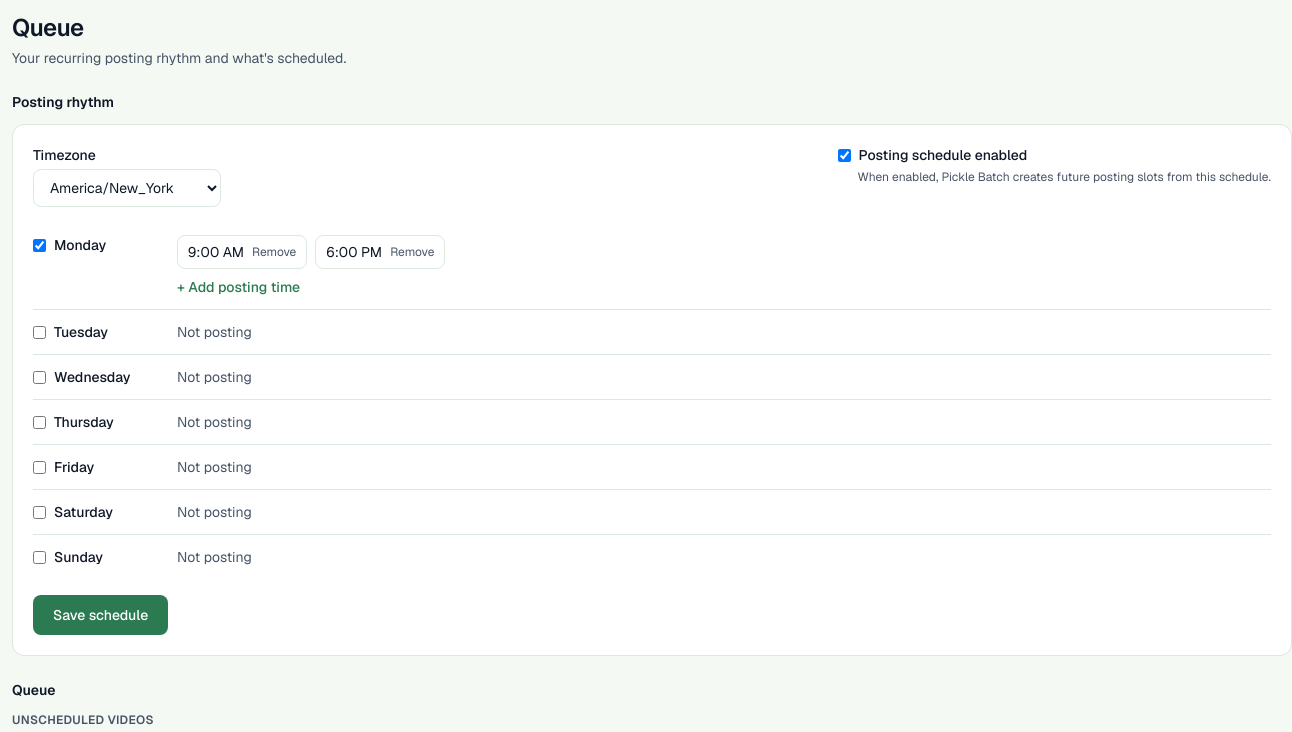
Test: QueuePage — posting rhythm › removes an individual time from a day with multiple times
This screenshot has width=1292, height=732.
Expected: the text "6:00 PM" is shown, [326, 242, 382, 262]
Click the button with aria-label "Remove Monday 6:00 PM". click: point(412, 252)
box: [390, 244, 434, 260]
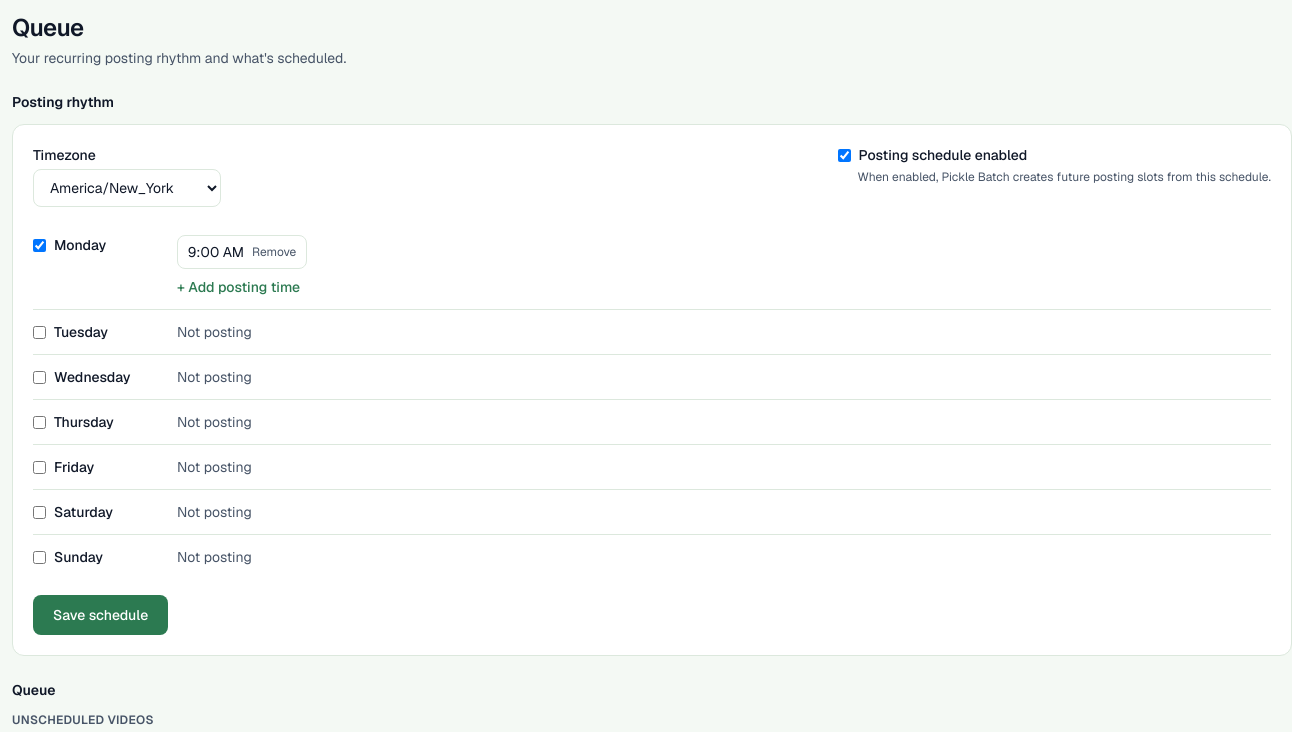
Expected: the text "9:00 AM" is shown, [188, 242, 244, 262]
Expected: the text "6:00 PM" is gone
